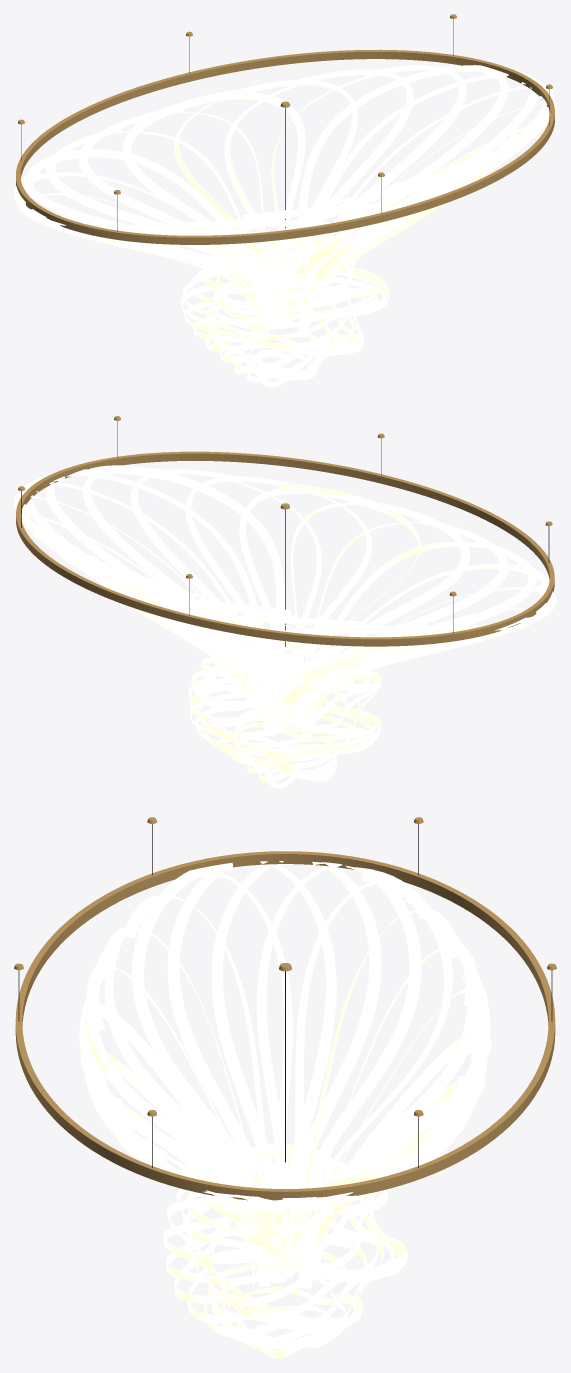
Rendered from chandelier_cascade.glb.
The picture shows the model from 3 angles, top to bottom: view 1: azimuth 30°, elevation 25°; view 2: azimuth 150°, elevation 25°; view 3: azimuth 270°, elevation 25°; orthographic projection. The views are drawn at different scales.
Visible parts, largest first — view 1: Mesh_Halo, Mesh_Ribbon35, Mesh_Ribbon42, Mesh_Ribbon37, Mesh_Ribbon34, Mesh_Ribbon25, Mesh_Ribbon5, Mesh_Ribbon39, Mesh_Ribbon32, Mesh_Ribbon31, Mesh_Ribbon30, Mesh_Ribbon16 (+41 smaller); view 2: Mesh_Halo, Mesh_Ribbon3, Mesh_Ribbon11, Mesh_Ribbon6, Mesh_Ribbon8, Mesh_Ribbon13, Mesh_Ribbon29, Mesh_Ribbon40, Mesh_Ribbon10, Mesh_Ribbon12, Mesh_Ribbon15, Mesh_Ribbon27 (+41 smaller); view 3: Mesh_Halo, Mesh_Ribbon23, Mesh_Ribbon21, Mesh_Ribbon22, Mesh_Ribbon24, Mesh_Ribbon20, Mesh_Ribbon19, Mesh_Ribbon26, Mesh_Ribbon28, Mesh_Ribbon17, Mesh_Ribbon25, Mesh_Ribbon27 (+42 smaller).
Part boxes in pixels (box(x1,y1,x2,y2)): Mesh_Halo: box(16, 49, 554, 244); Mesh_Ribbon35: box(286, 69, 413, 294); Mesh_Ribbon42: box(295, 65, 508, 253); Mesh_Ribbon37: box(331, 65, 466, 237); Mesh_Ribbon34: box(122, 88, 264, 276); Mesh_Ribbon25: box(27, 149, 252, 257); Mesh_Ribbon5: box(302, 133, 518, 313); Mesh_Ribbon39: box(300, 65, 508, 303); Mesh_Ribbon32: box(79, 106, 257, 299); Mesh_Ribbon31: box(149, 93, 305, 279); Mesh_Ribbon30: box(46, 128, 254, 270); Mesh_Ribbon16: box(173, 220, 346, 315); Mesh_Halo: box(16, 451, 554, 646); Mesh_Ribbon3: box(84, 465, 284, 698); Mesh_Ribbon11: box(316, 498, 470, 668); Mesh_Ribbon6: box(82, 467, 270, 705); Mesh_Ribbon8: box(130, 469, 279, 703); Mesh_Ribbon13: box(303, 518, 508, 715); Mesh_Ribbon29: box(198, 616, 363, 728); Mesh_Ribbon40: box(37, 523, 264, 730); Mesh_Ribbon10: box(185, 476, 318, 685); Mesh_Ribbon12: box(239, 488, 389, 683); Mesh_Ribbon15: box(303, 540, 536, 717); Mesh_Ribbon27: box(248, 625, 429, 727); Mesh_Halo: box(15, 851, 555, 1200); Mesh_Ribbon23: box(302, 861, 421, 1187); Mesh_Ribbon21: box(260, 850, 381, 1187); Mesh_Ribbon22: box(167, 861, 283, 1188); Mesh_Ribbon24: box(211, 862, 342, 1215); Mesh_Ribbon20: box(132, 862, 260, 1188); Mesh_Ribbon19: box(202, 864, 336, 1186); Mesh_Ribbon26: box(257, 867, 391, 1186); Mesh_Ribbon28: box(293, 882, 431, 1187); Mesh_Ribbon17: box(157, 873, 292, 1184); Mesh_Ribbon25: box(301, 869, 452, 1245); Mesh_Ribbon27: box(333, 900, 476, 1182).
Size of the model in its own units: 7.55 by 3.8 by 4.89.
